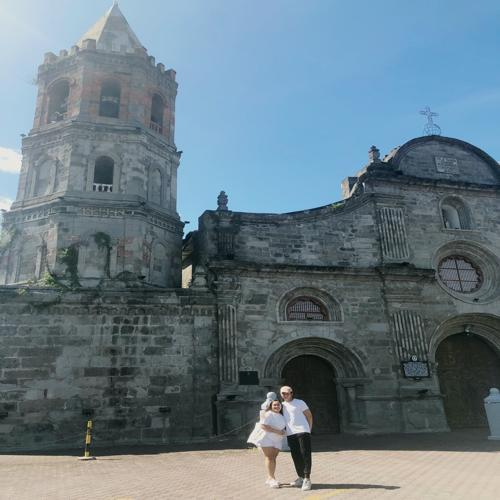Barasoain Church: (9, 6, 500, 457)
